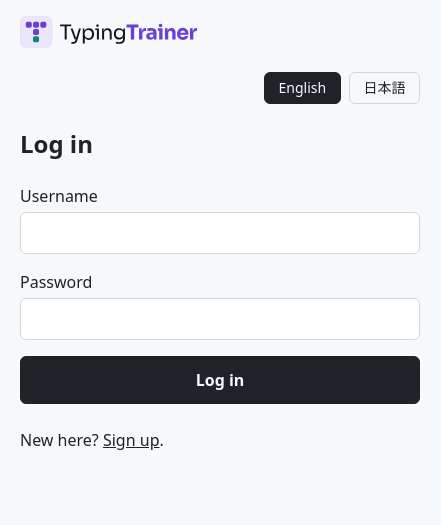
Test: sign-in screen › shows the message the API returned and stays on the screen
Type "ada" into the field labelled "Username" at (220, 233), box [20,212,420,254]
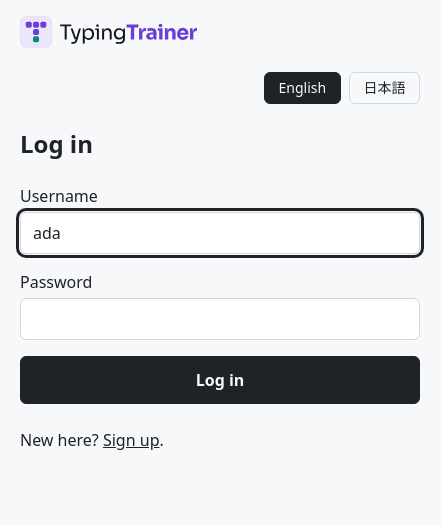
Type "correct horse battery staple" into the password field labelled "Password" at (220, 319), box [20,298,420,340]
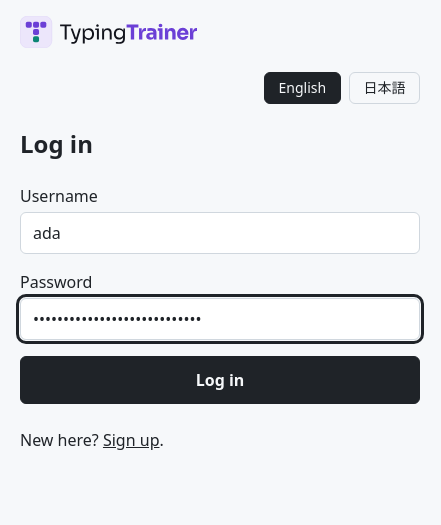
Click the button "Log in" at (220, 380), box [20,356,420,404]
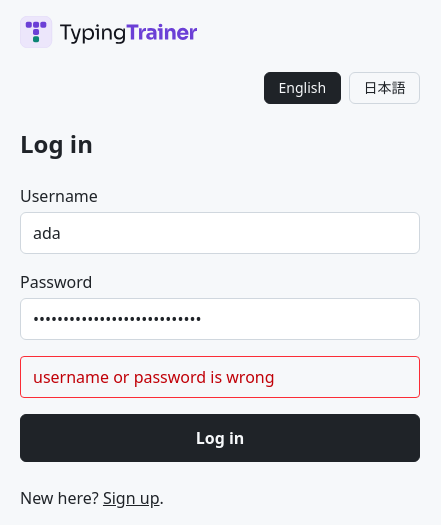
Expected: the message reads "username or password is wrong", [33,366,275,388]
